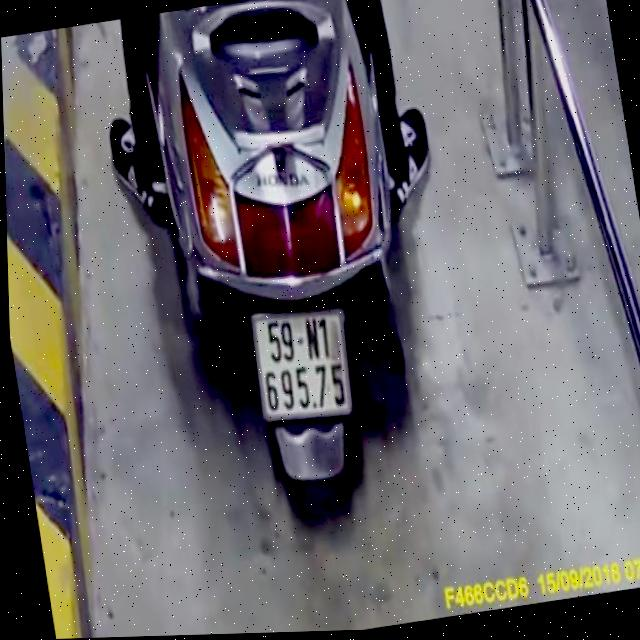motorcycle: (130, 0, 442, 529)
plate: (243, 297, 360, 430)
